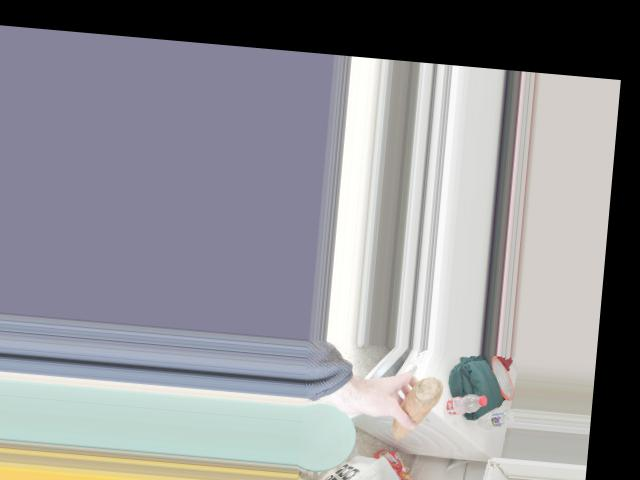sweet_potato: (393, 374, 444, 443)
